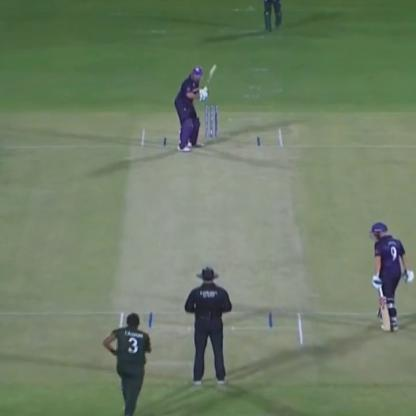pitch: (108, 130, 309, 356)
